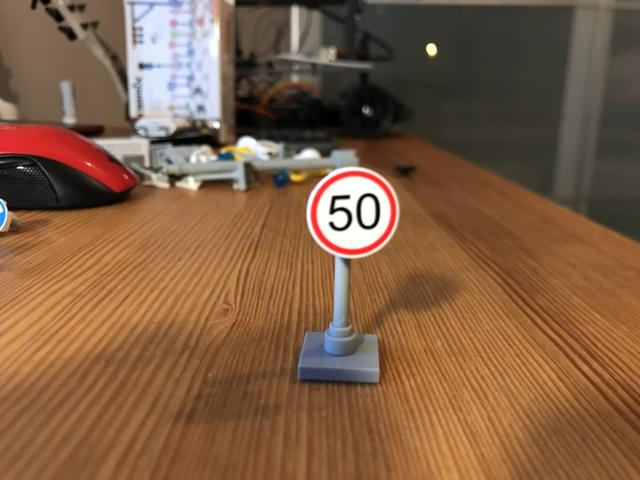tempolimit 50: (304, 168, 400, 257)
